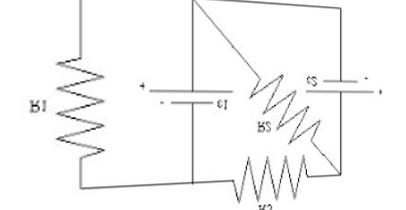resistor: (53, 50, 116, 170), (242, 64, 321, 143), (227, 148, 310, 203)
